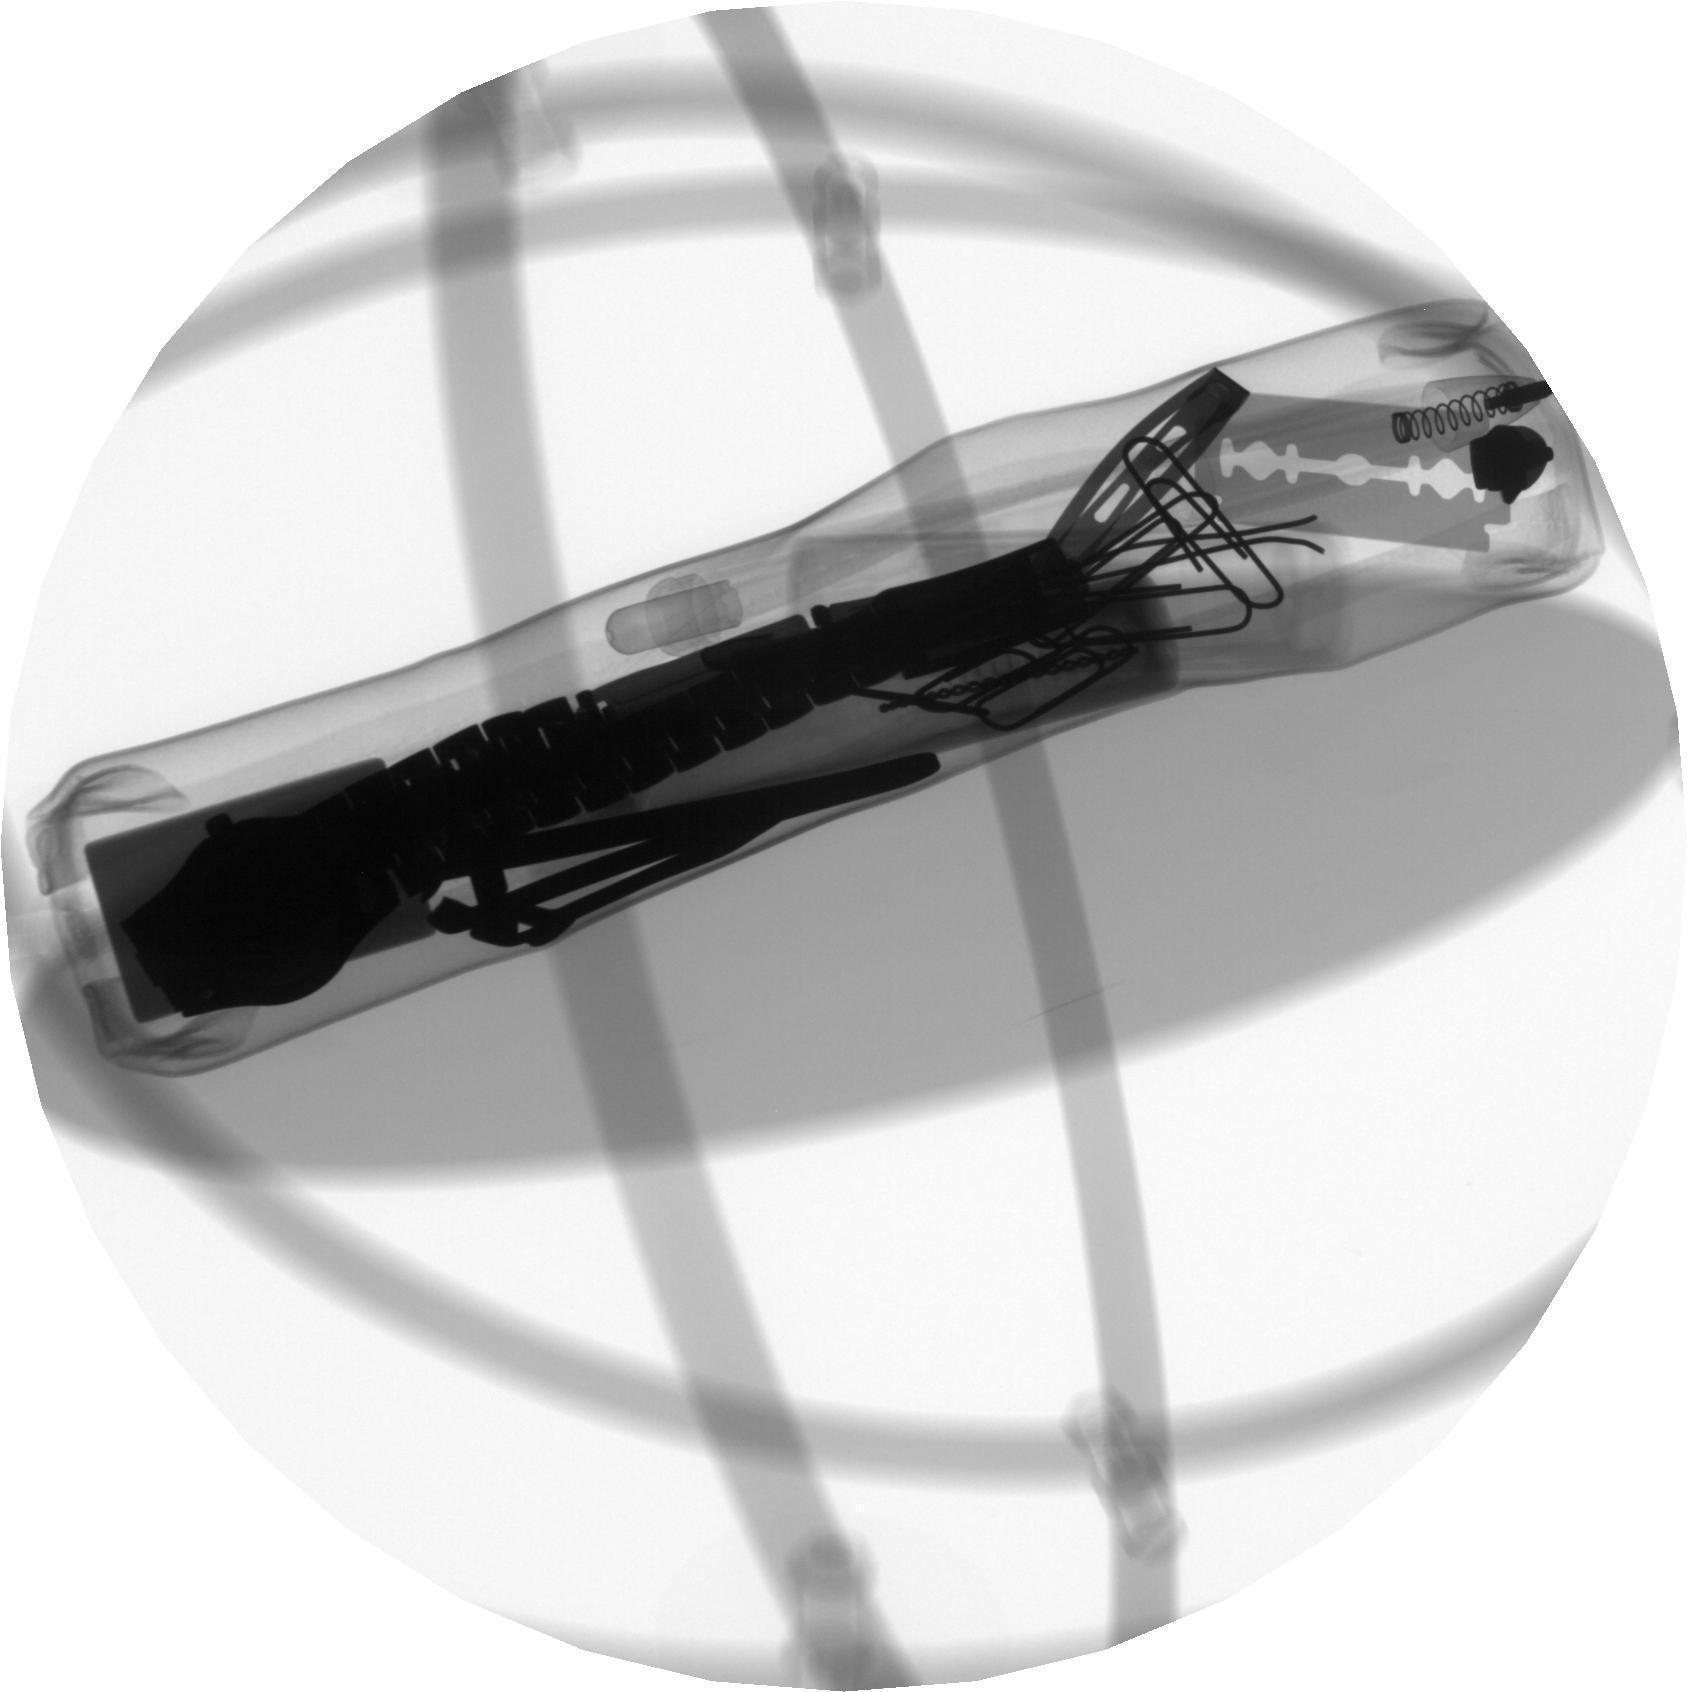RazorBlade: (1172, 379, 1527, 603)
